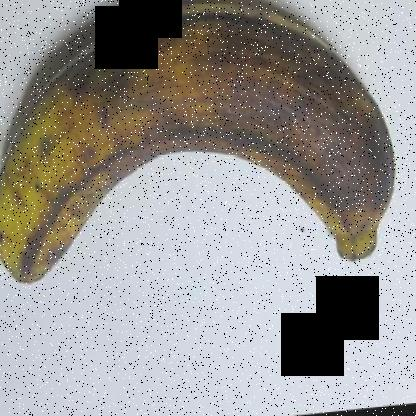overripe: (1, 2, 403, 306)
